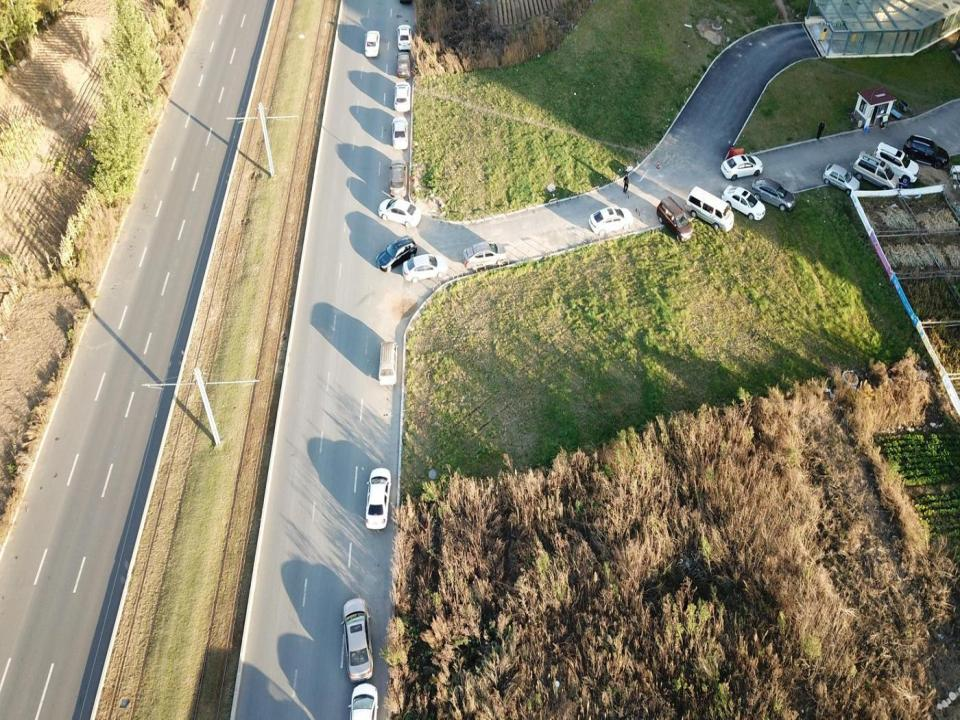car: (341, 600, 374, 682), (721, 183, 765, 222), (364, 468, 390, 531), (901, 134, 948, 168), (657, 197, 694, 240), (376, 236, 416, 274), (749, 179, 794, 212), (588, 207, 633, 238), (378, 198, 422, 228), (402, 253, 445, 282), (463, 241, 505, 270), (824, 162, 860, 195), (348, 685, 380, 719), (719, 153, 764, 177), (388, 160, 408, 195), (395, 24, 414, 54), (391, 116, 408, 149), (392, 82, 410, 112), (363, 29, 380, 58), (396, 48, 411, 78)
van: (686, 184, 735, 232), (871, 142, 920, 184), (852, 152, 898, 195), (379, 341, 397, 386)
